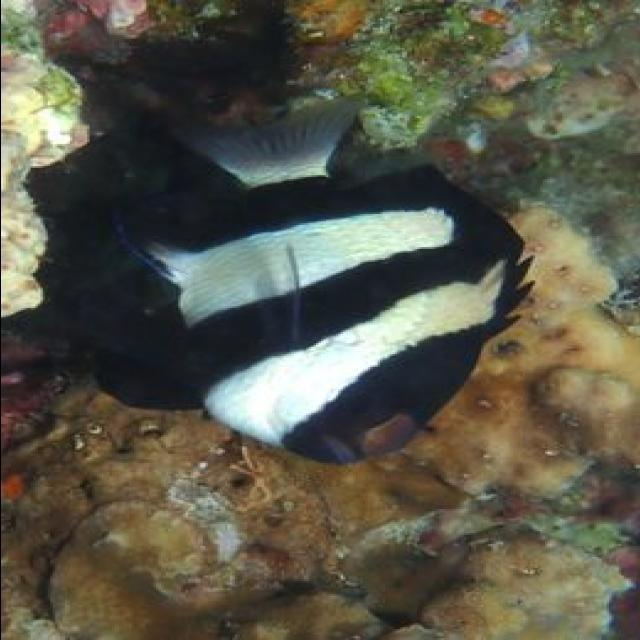ThreeStripedDamselfish: (133, 100, 522, 465)
